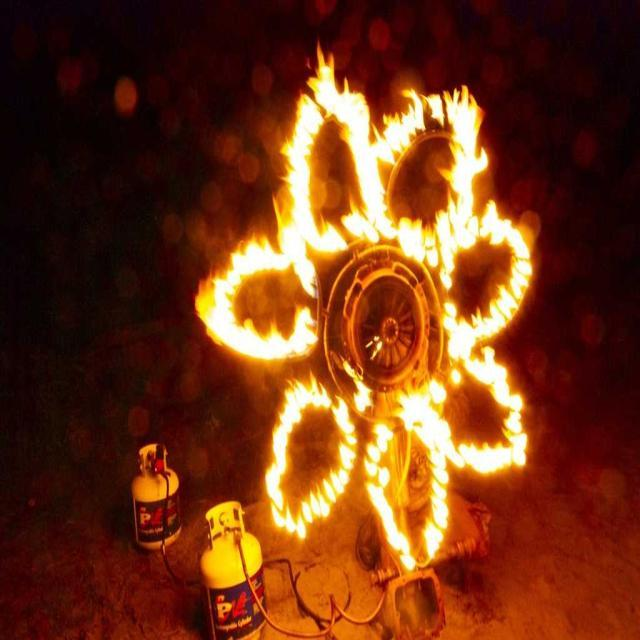Fire: (280, 51, 476, 258), (266, 373, 466, 564), (444, 222, 540, 464)
